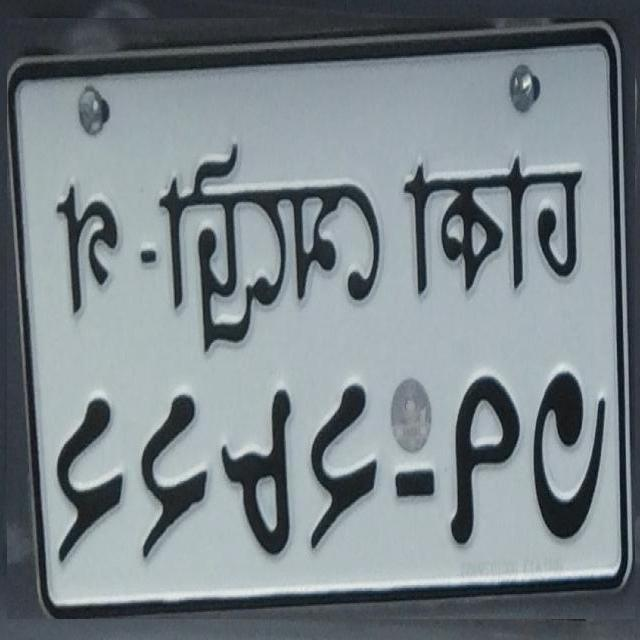numberplate: (7, 18, 635, 619)
